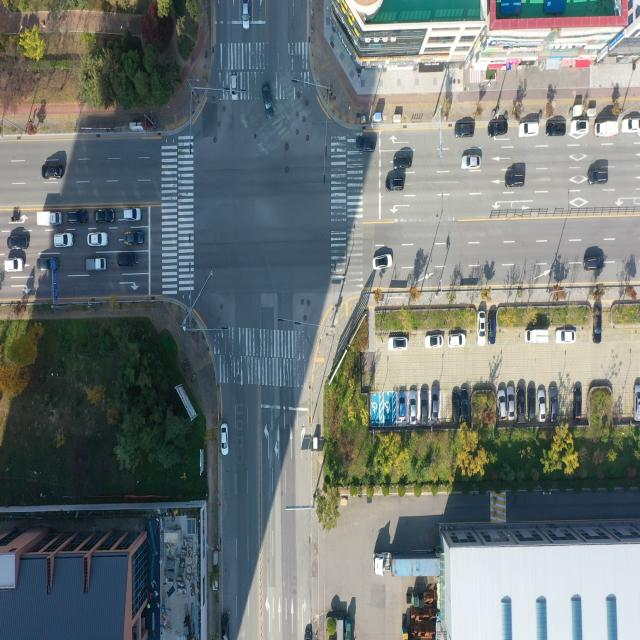car: (592, 304, 602, 344), (42, 164, 63, 182), (388, 337, 408, 353), (527, 386, 536, 421), (622, 116, 640, 133), (488, 312, 497, 346), (589, 170, 608, 186), (519, 123, 539, 138), (556, 331, 576, 346), (550, 385, 558, 422), (570, 118, 588, 134), (264, 85, 273, 117), (460, 386, 468, 422), (90, 233, 109, 248), (518, 386, 526, 421), (479, 311, 487, 345), (452, 389, 460, 423), (56, 234, 74, 249), (375, 254, 393, 269), (96, 210, 115, 224), (386, 178, 405, 192), (507, 174, 526, 188), (455, 125, 474, 139), (557, 327, 576, 341), (431, 386, 439, 419), (8, 237, 28, 250), (547, 125, 567, 138), (449, 334, 466, 349), (68, 211, 86, 225), (5, 260, 23, 274), (425, 336, 443, 350), (421, 386, 428, 422), (393, 157, 412, 170), (242, 0, 250, 30), (537, 390, 545, 420), (127, 233, 144, 247), (125, 208, 142, 222), (462, 157, 479, 171), (411, 392, 418, 426), (120, 254, 138, 267), (38, 260, 56, 273), (220, 424, 227, 456), (506, 386, 513, 418), (357, 139, 374, 152), (220, 613, 228, 640), (634, 384, 640, 420), (498, 389, 505, 419), (363, 140, 379, 153), (398, 391, 406, 417), (586, 260, 603, 272), (232, 74, 239, 100), (574, 388, 580, 418), (10, 212, 24, 224)
large_truck: (374, 551, 443, 581)
small_truck: (594, 122, 618, 138), (37, 210, 61, 226), (524, 328, 548, 344), (87, 260, 106, 274)
